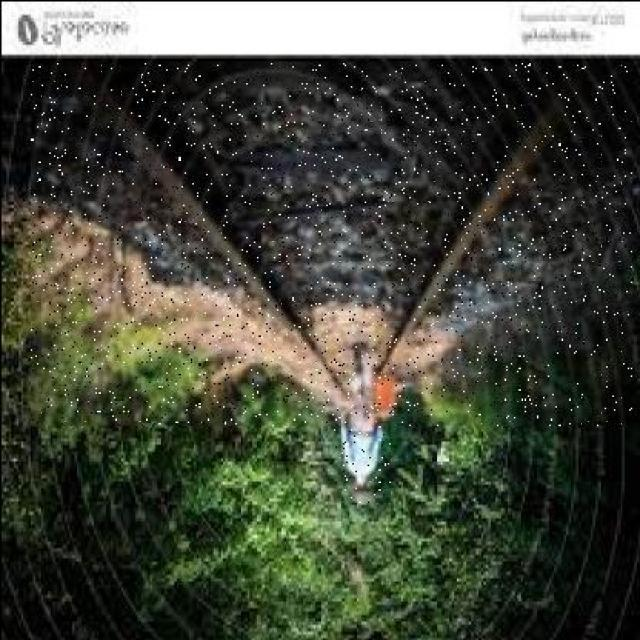rail: (32, 63, 632, 425)
